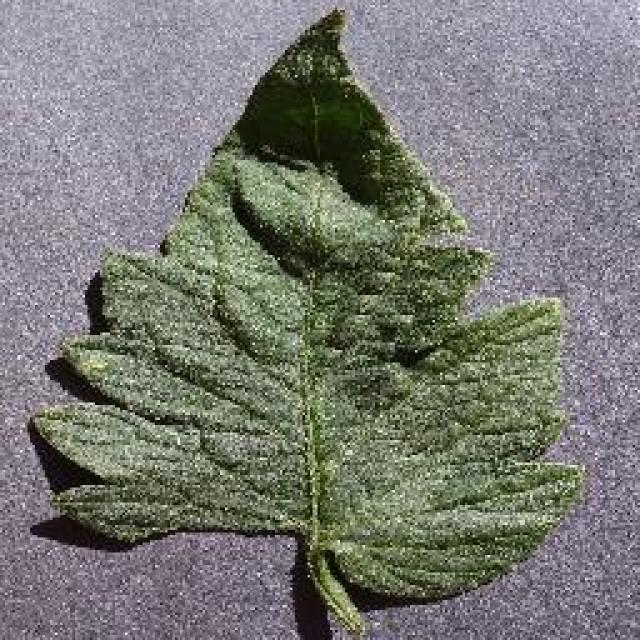Tomato_Healthy: (29, 15, 586, 618)
